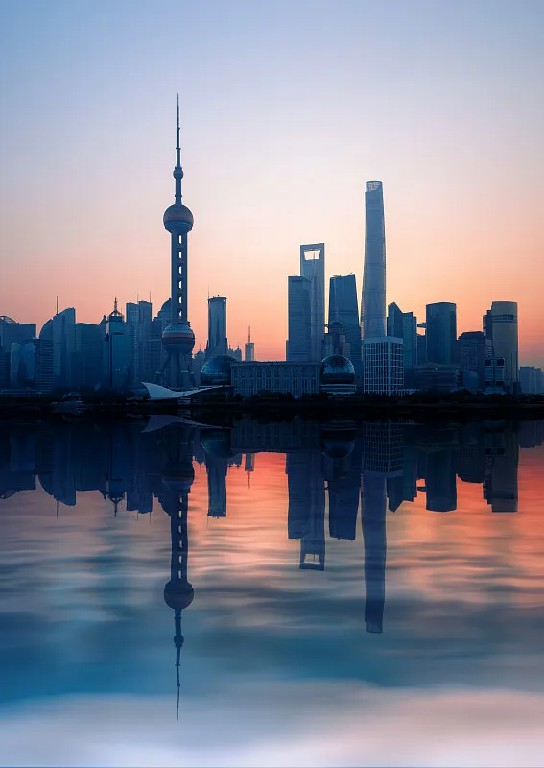Oriental: (152, 91, 196, 388)
